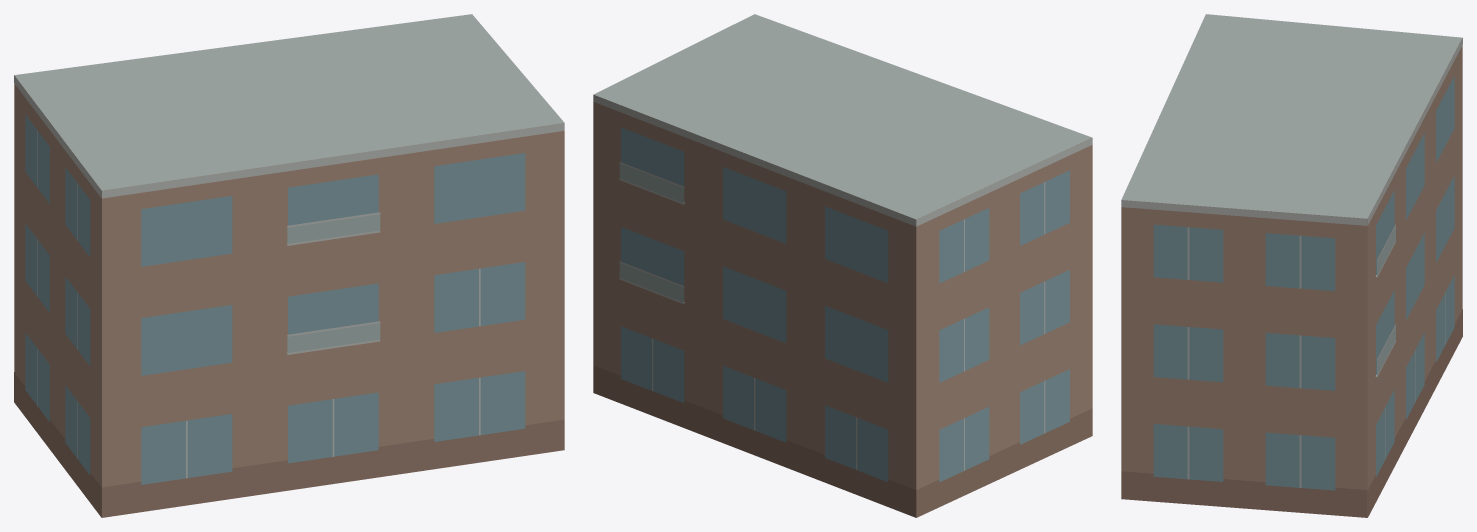
The model's file is survey-upis-32731025.glb.
3 renders of one model, left to right at view 1: azimuth 30°, elevation 25°; view 2: azimuth 150°, elevation 25°; view 3: azimuth 270°, elevation 25°, orthographic. The views are drawn at different scales.
Parts seen in each view (by area): view 1: survey-upis-32731025.tmp; view 2: survey-upis-32731025.tmp; view 3: survey-upis-32731025.tmp.
Boxes of the visible parts, left/top/right/bottom form: survey-upis-32731025.tmp: left=14, top=14, right=564, bottom=517; survey-upis-32731025.tmp: left=593, top=14, right=1092, bottom=517; survey-upis-32731025.tmp: left=1121, top=14, right=1462, bottom=517.
Size of the model in its own units: 14.98 by 10.2 by 10.56.
